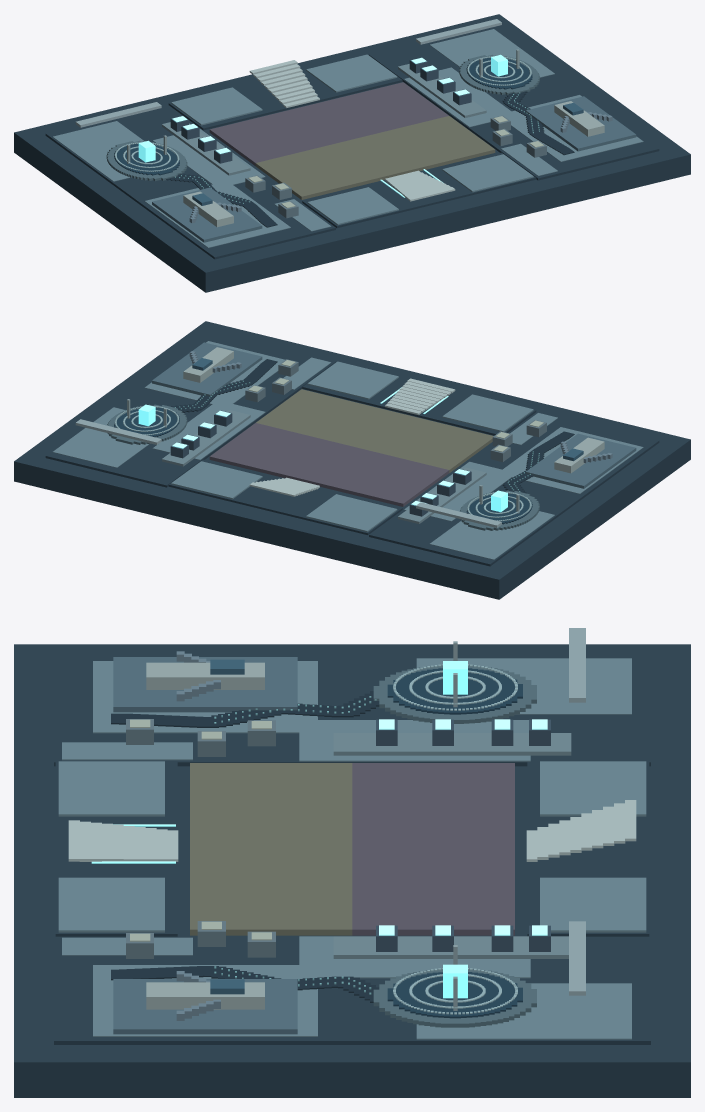
File: preview-nexus.glb
The picture shows the model from 3 angles, top to bottom: view 1: azimuth 30°, elevation 25°; view 2: azimuth 150°, elevation 25°; view 3: azimuth 270°, elevation 25°; orthographic projection. The views are drawn at different scales.
Parts seen in each view (by area): view 1: Miniature_Plinth, Miniature_Original_Board, Miniature_Approach_Flanking_Terraces, Miniature_Landscape_Terrain_Base, Miniature_East_Landscape_Terrain_Fields, Miniature_Landscape_Terrain_Fields, Miniature_East_Landscape_Terrain_Base, Miniature_Approach_Terrain, Miniature_Approach_Entry_Stair, Miniature_Landscape_Cargo_Dock, Miniature_East_Landscape_Cargo_Dock, Miniature_Landscape_Reactor_Well_Interior (+17 smaller); view 2: Miniature_Plinth, Miniature_Original_Board, Miniature_Approach_Flanking_Terraces, Miniature_Landscape_Terrain_Base, Miniature_East_Landscape_Terrain_Base, Miniature_Landscape_Terrain_Fields, Miniature_East_Landscape_Terrain_Fields, Miniature_Approach_Terrain, Miniature_Landscape_Cargo_Dock, Miniature_Approach_Entry_Stair, Miniature_East_Landscape_Cargo_Dock, Miniature_East_Landscape_Control_Gallery_Deck (+17 smaller); view 3: Miniature_Plinth, Miniature_Original_Board, Miniature_Approach_Flanking_Terraces, Miniature_East_Landscape_Terrain_Base, Miniature_East_Landscape_Terrain_Fields, Miniature_Landscape_Terrain_Base, Miniature_Landscape_Terrain_Fields, Miniature_Approach_Terrain, Miniature_Approach_Entry_Stair, Miniature_East_Landscape_Cargo_Dock, Miniature_Landscape_Cargo_Dock, Miniature_Landscape_Control_Gallery_Deck (+23 smaller).
Boxes of the visible parts, left/top/right/bottom form: Miniature_Plinth: left=14, top=14, right=690, bottom=292; Miniature_Original_Board: left=209, top=82, right=495, bottom=199; Miniature_Approach_Flanking_Terraces: left=171, top=54, right=533, bottom=225; Miniature_Landscape_Terrain_Base: left=45, top=104, right=335, bottom=259; Miniature_East_Landscape_Terrain_Fields: left=404, top=29, right=643, bottom=176; Miniature_Landscape_Terrain_Fields: left=53, top=121, right=331, bottom=247; Miniature_East_Landscape_Terrain_Base: left=369, top=27, right=659, bottom=180; Miniature_Approach_Terrain: left=168, top=56, right=536, bottom=227; Miniature_Approach_Entry_Stair: left=249, top=60, right=455, bottom=201; Miniature_Landscape_Cargo_Dock: left=152, top=187, right=262, bottom=242; Miniature_East_Landscape_Cargo_Dock: left=525, top=96, right=636, bottom=151; Miniature_Landscape_Reactor_Well_Interior: left=114, top=144, right=179, bottom=175; Miniature_Plinth: left=14, top=321, right=690, bottom=599; Miniature_Original_Board: left=209, top=389, right=493, bottom=506; Miniature_Approach_Flanking_Terraces: left=171, top=361, right=533, bottom=532; Miniature_Landscape_Terrain_Base: left=369, top=411, right=659, bottom=566; Miniature_East_Landscape_Terrain_Base: left=45, top=332, right=335, bottom=487; Miniature_Landscape_Terrain_Fields: left=404, top=413, right=643, bottom=559; Miniature_East_Landscape_Terrain_Fields: left=53, top=341, right=331, bottom=467; Miniature_Approach_Terrain: left=168, top=363, right=536, bottom=534; Miniature_Landscape_Cargo_Dock: left=525, top=433, right=636, bottom=488; Miniature_Approach_Entry_Stair: left=249, top=378, right=455, bottom=496; Miniature_East_Landscape_Cargo_Dock: left=152, top=342, right=262, bottom=396; Miniature_East_Landscape_Control_Gallery_Deck: left=162, top=410, right=250, bottom=466; Miniature_Plinth: left=14, top=644, right=690, bottom=1097; Miniature_Original_Board: left=190, top=763, right=514, bottom=935; Miniature_Approach_Flanking_Terraces: left=58, top=761, right=646, bottom=932; Miniature_East_Landscape_Terrain_Base: left=54, top=936, right=650, bottom=1044; Miniature_East_Landscape_Terrain_Fields: left=62, top=936, right=631, bottom=1039; Miniature_Landscape_Terrain_Base: left=54, top=658, right=650, bottom=766; Miniature_Landscape_Terrain_Fields: left=62, top=658, right=631, bottom=761; Miniature_Approach_Terrain: left=55, top=762, right=649, bottom=936; Miniature_Approach_Entry_Stair: left=68, top=800, right=636, bottom=861; Miniature_East_Landscape_Cargo_Dock: left=113, top=979, right=297, bottom=1034; Miniature_Landscape_Cargo_Dock: left=113, top=657, right=297, bottom=712; Miniature_Landscape_Control_Gallery_Deck: left=333, top=733, right=571, bottom=755.
Size of the model in its own units: 7.6 by 0.6704 by 5.2.
